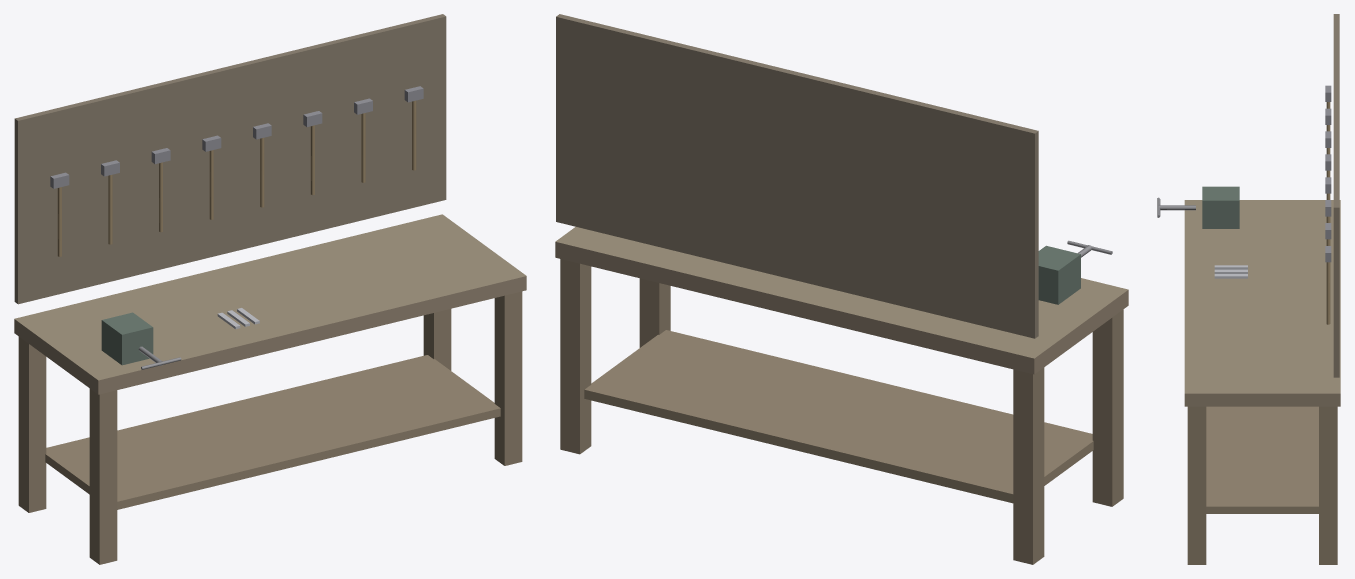
The model's file is garage_workbench_a.glb.
The picture shows the model from 3 angles, left to right: view 1: azimuth 30°, elevation 25°; view 2: azimuth 150°, elevation 25°; view 3: azimuth 270°, elevation 25°; orthographic projection. The views are drawn at different scales.
Visible parts, largest first — view 1: body; view 2: body; view 3: body.
Part boxes in pixels (x1,y1,x2,y2): body: (14,14,526,564); body: (555,14,1128,564); body: (1157,14,1340,564).
Size of what is drawn, in the model's own units: 2.2 by 1.9 by 0.8815.
